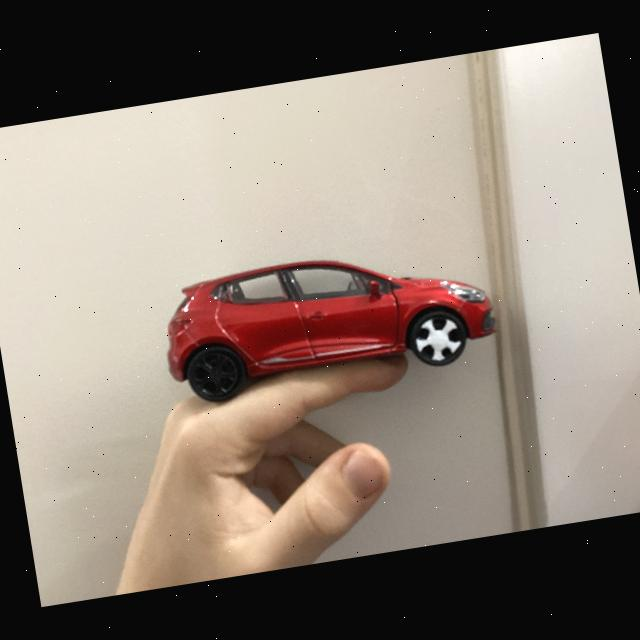Dogru_Jant: (192, 349, 240, 399)
Yanlis_Jant: (412, 314, 465, 365)
